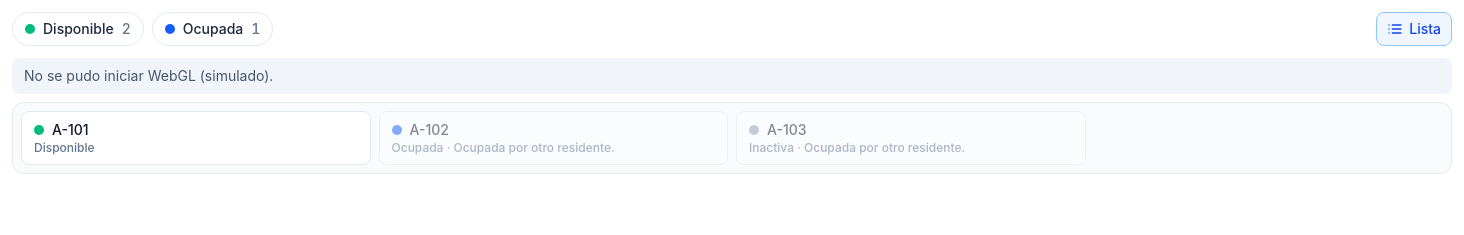
Test: HouseMap › una vivienda no seleccionable no se elige y explica el motivo
Click the button "A-102 Ocupada · Ocupada por otro residente.": (553, 138) [378,111,728,165]
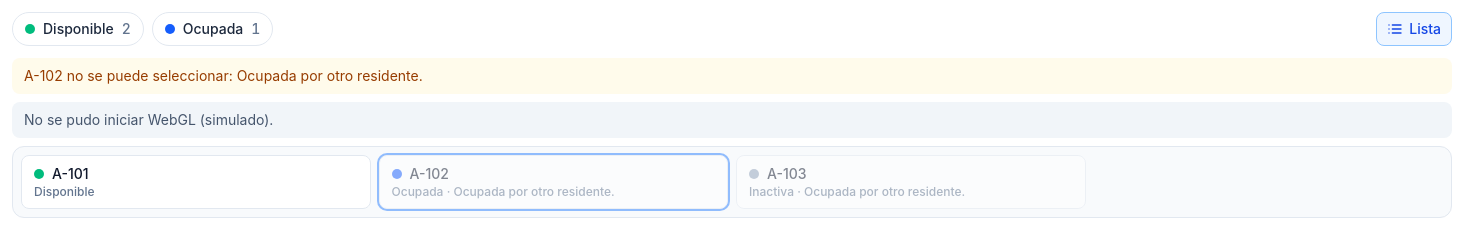
Now the text "A-102 no se puede seleccionar: Ocupada por otro residente." is shown, box [12,58,1452,94]
